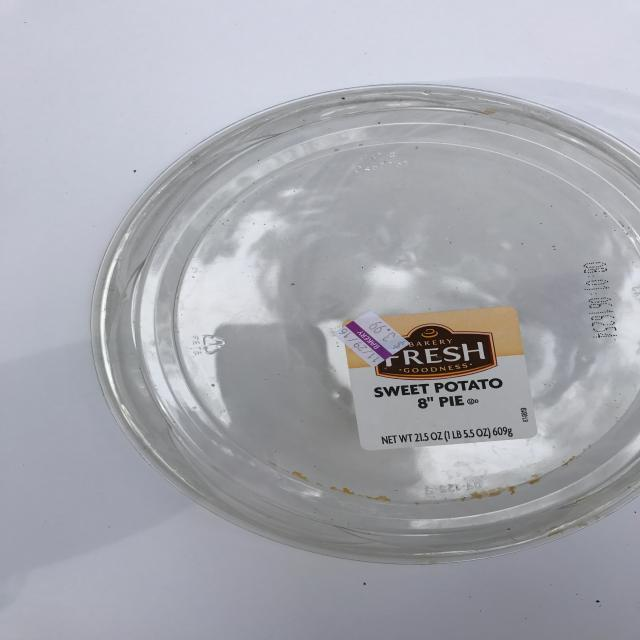plastic: (90, 80, 640, 570)
